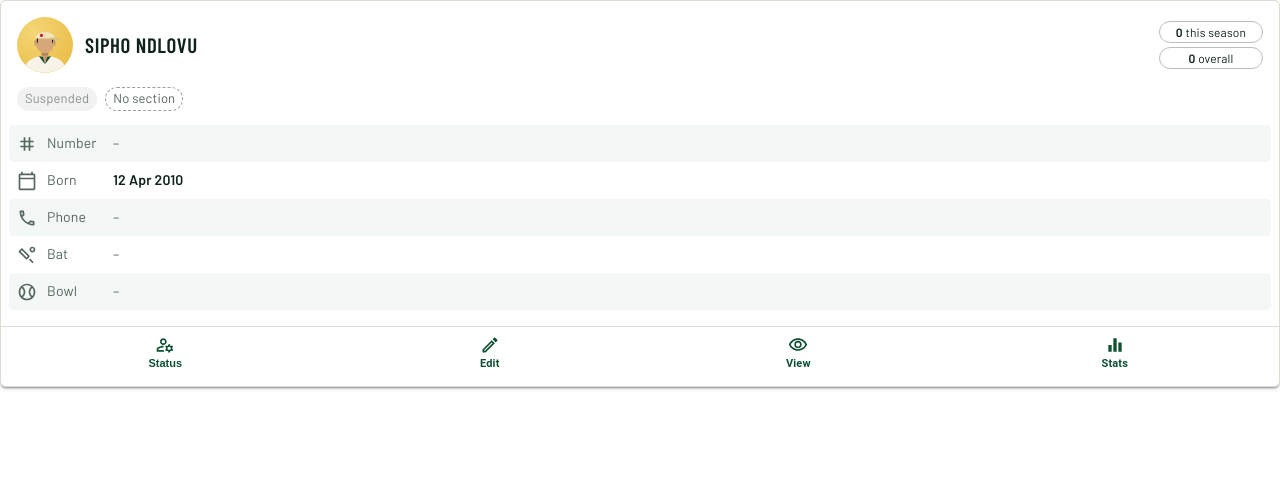
Scenario: PlayerCard › footer and the Status menu › the Status button of {"verificationStatus":"VERIFIED","active":false} offers ["Reactivate"]
Click the button with aria-label "Change status" at (165,353), box x1=9 y1=327 x2=322 y2=378
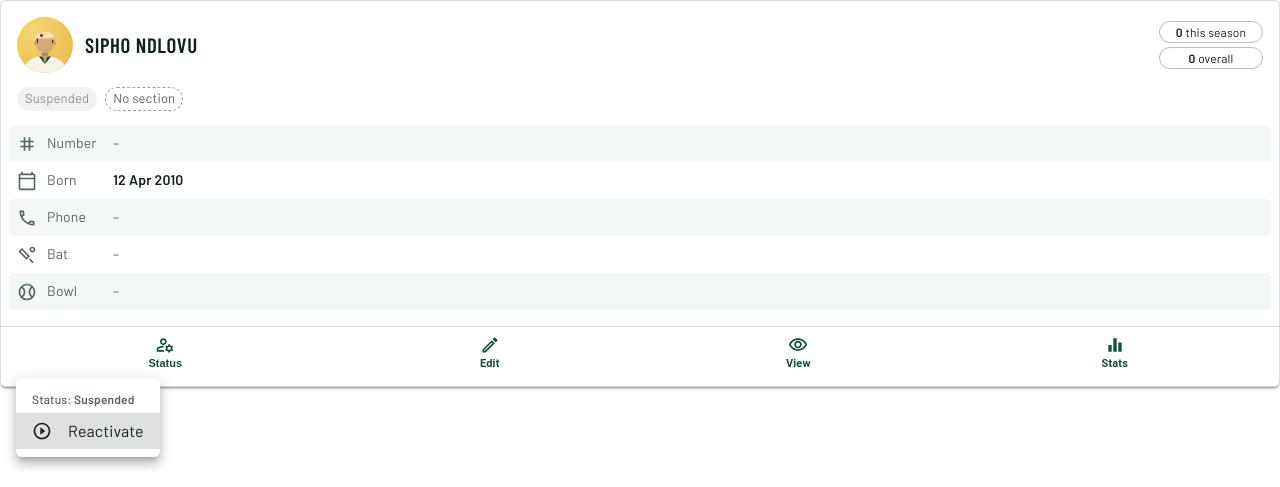
Expected: the menu items read "Reactivate", in this order, x1=16 y1=413 x2=160 y2=449
